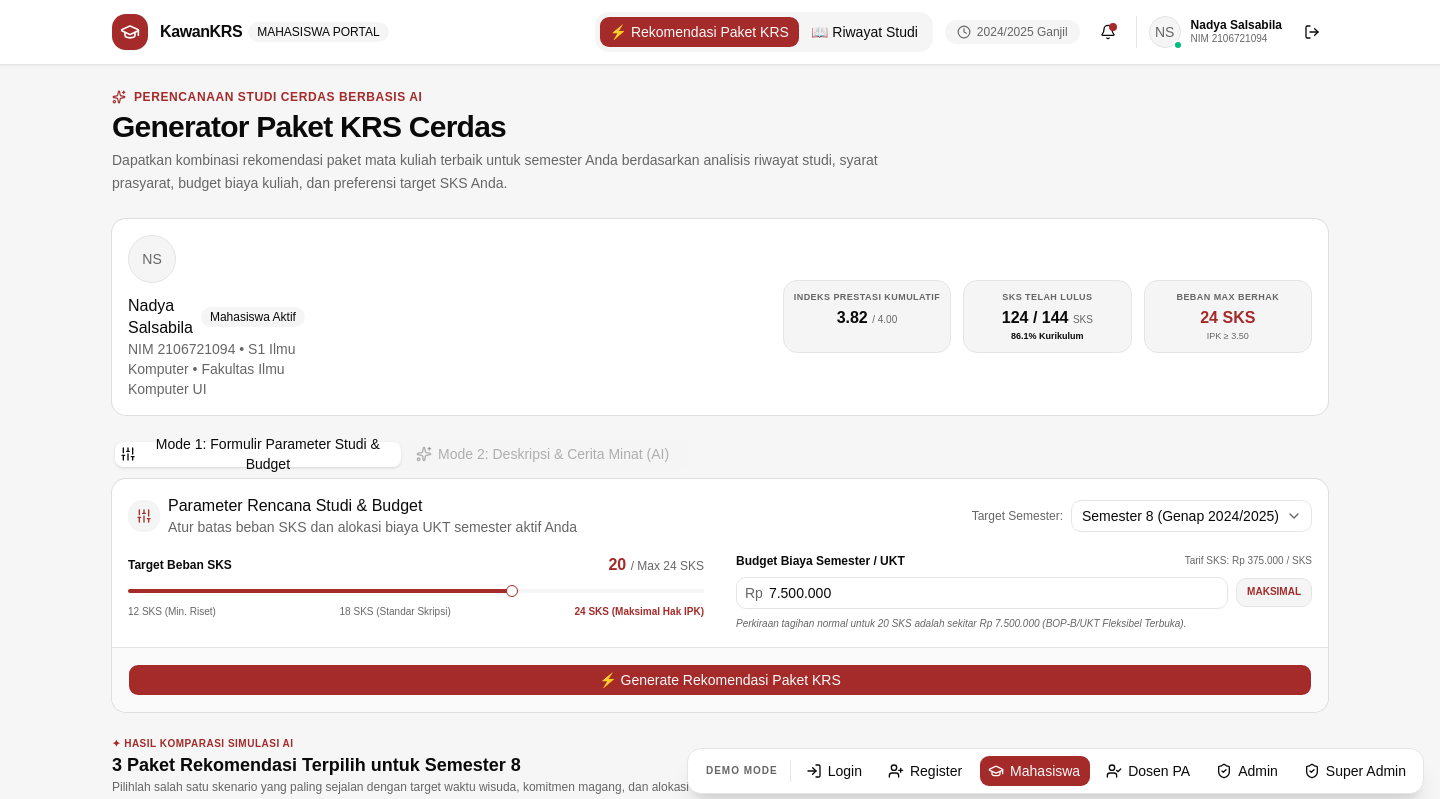
Scenario: shadcn controls and accessibility › supports keyboard SKS changes and announces the selected recommendation
Press ArrowRight in the slider named "Target Beban SKS", box [507,586,517,596]
(page scrolled)
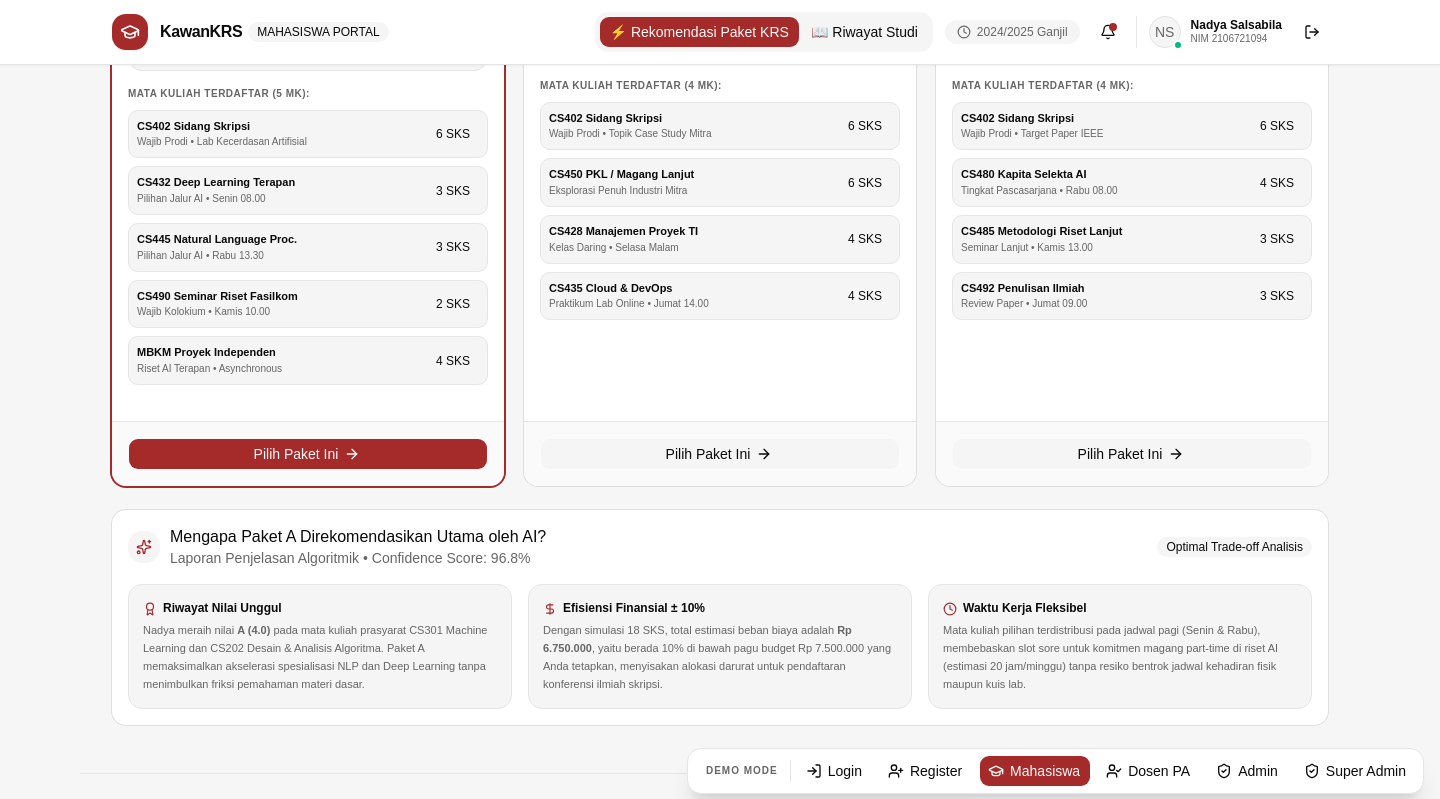
Click the button with aria-label "Pilih Paket B". click: (720, 454)
box: [540,438,900,470]
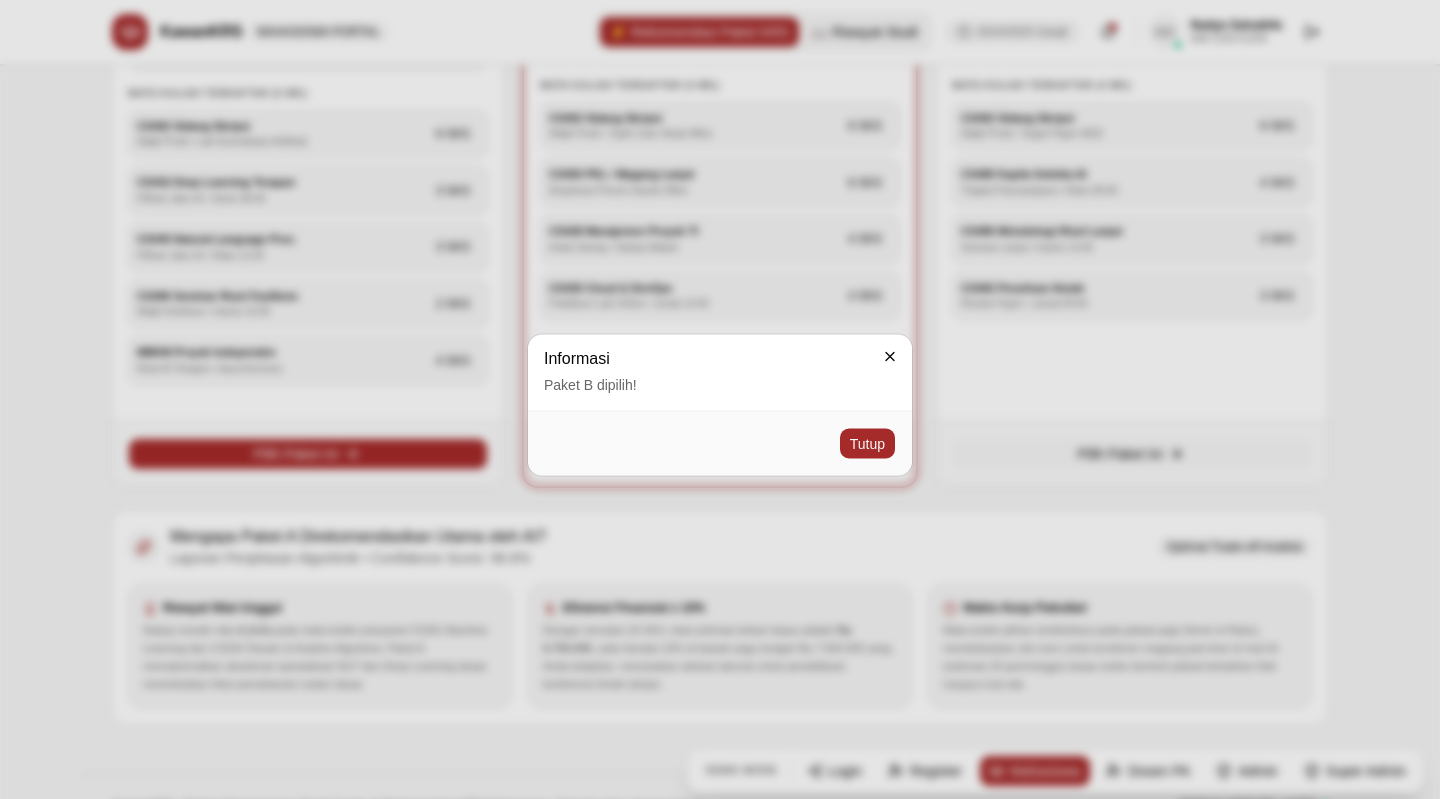
Expected: the text "Paket B dipilih!" is shown, [544,376,637,392]
Click the button "Tutup". click: (867, 444)
box: [839,428,896,460]
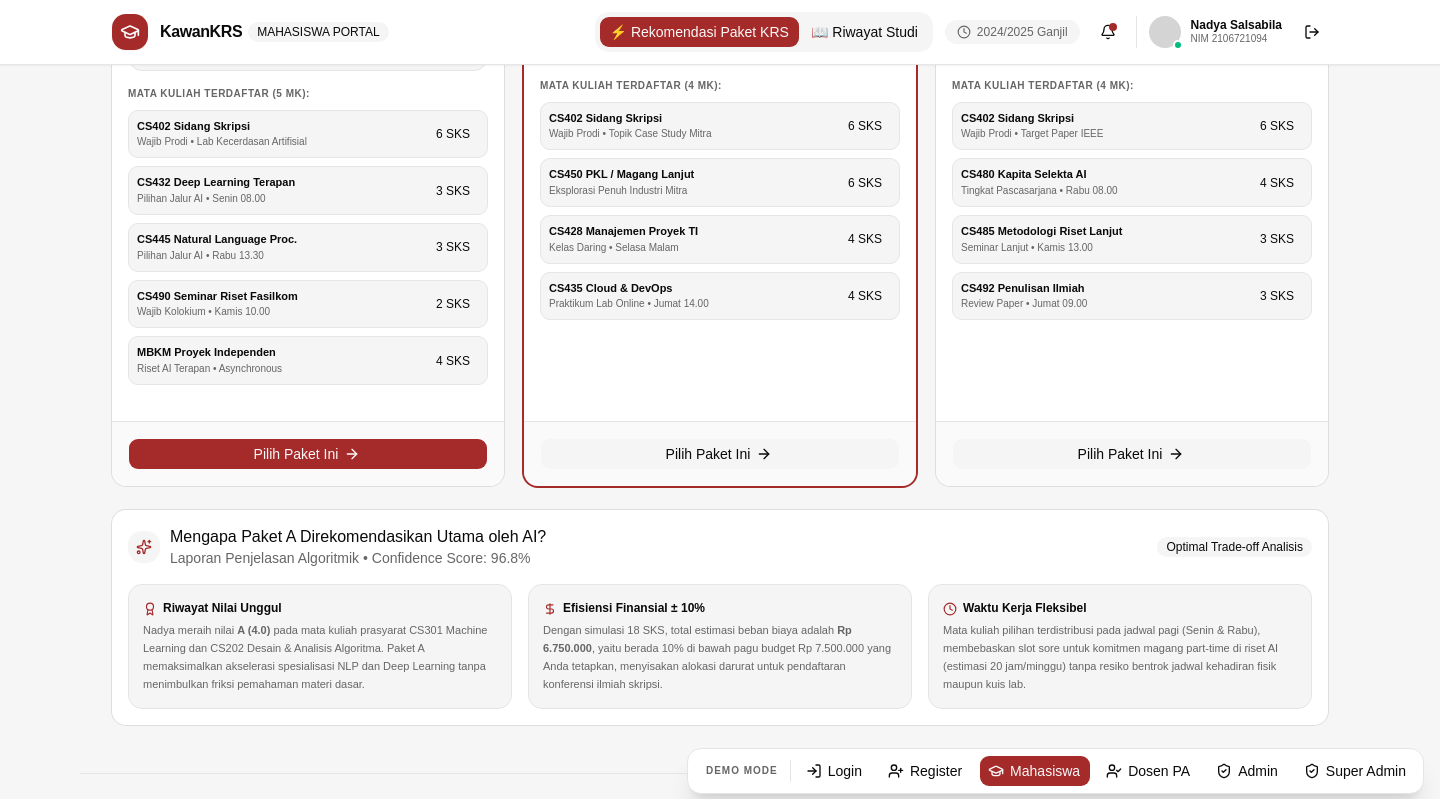
Expected: the dialog is gone
